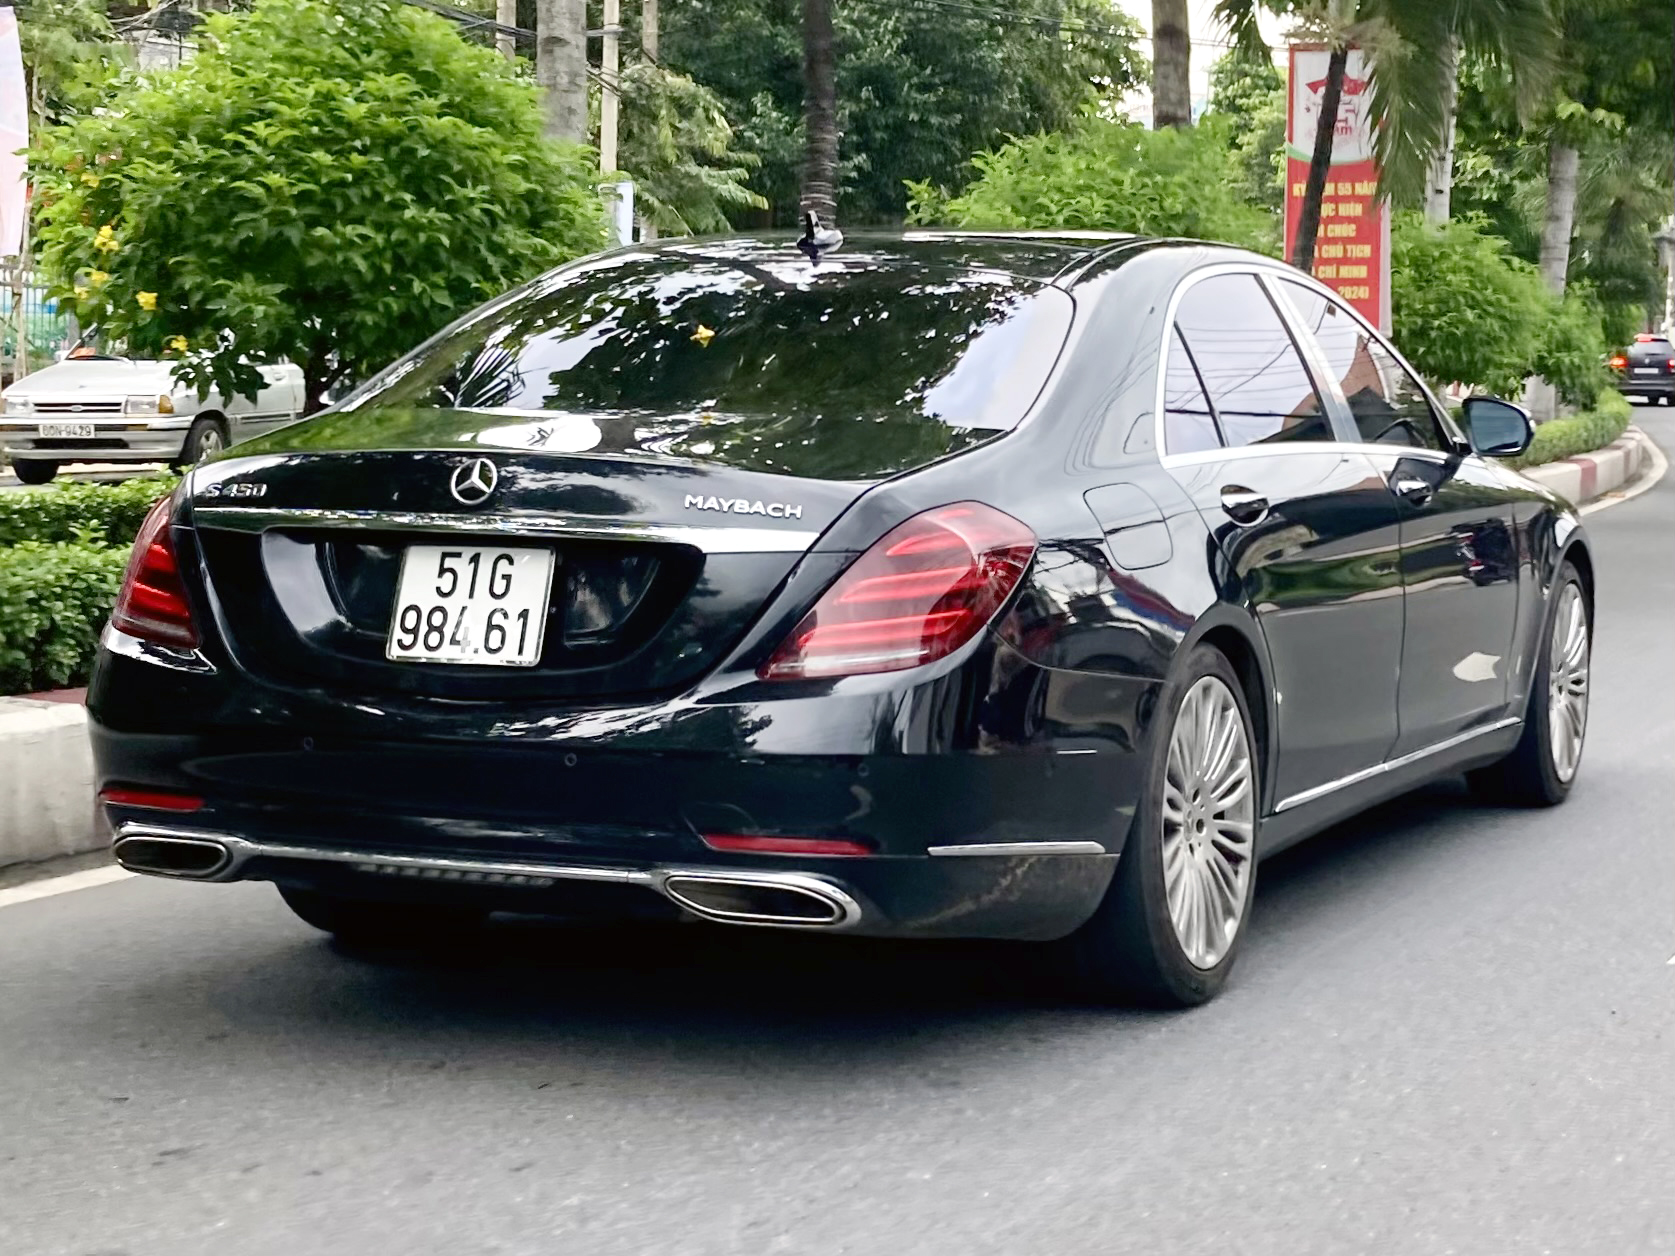bien_so: (384, 544, 555, 667)
